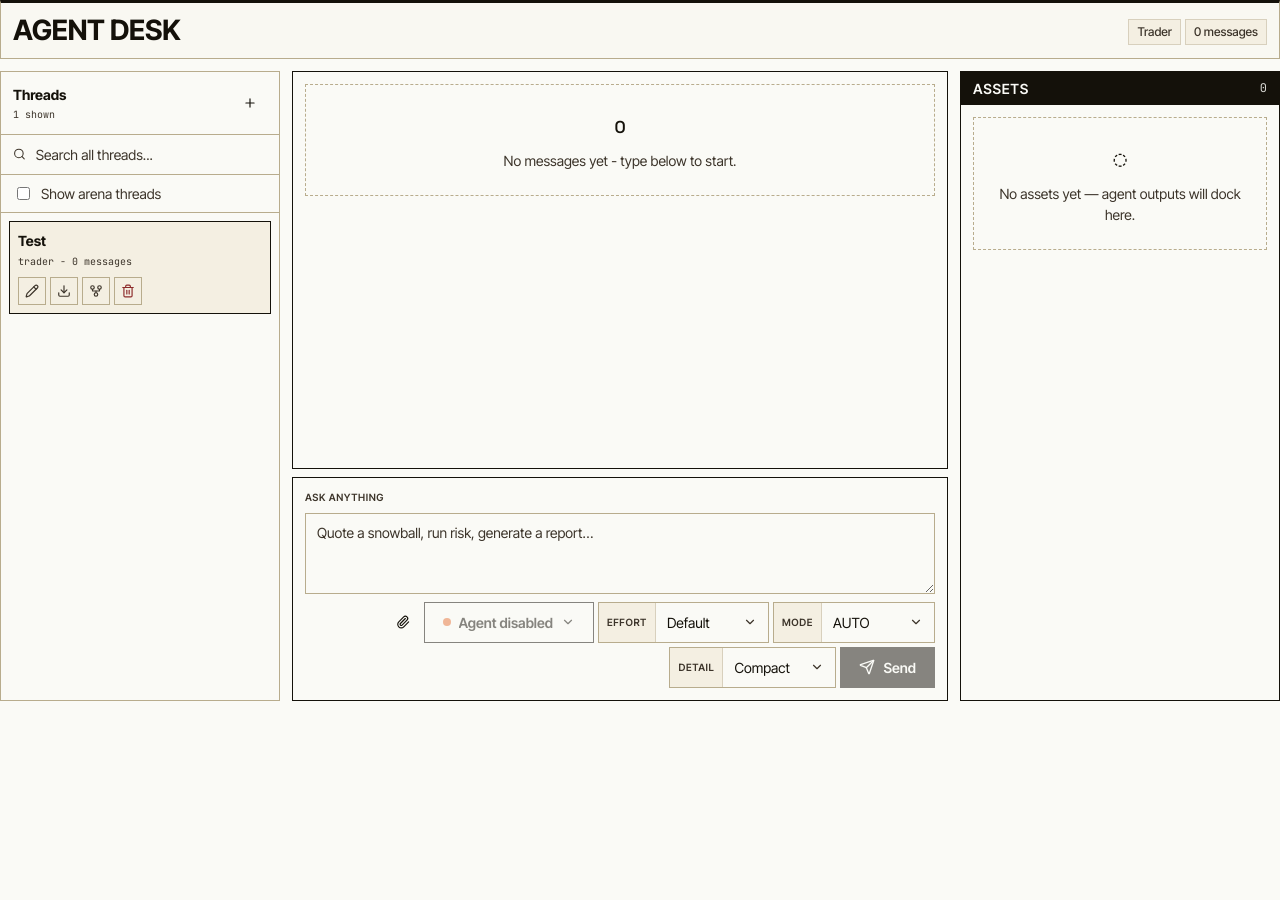
it: AgentDeskLive SSE parsing › aborts the active stream when Stop is clicked
Type "hi" into the text box labelled "Ask anything" at point(620, 553), box x1=305 y1=513 x2=935 y2=594
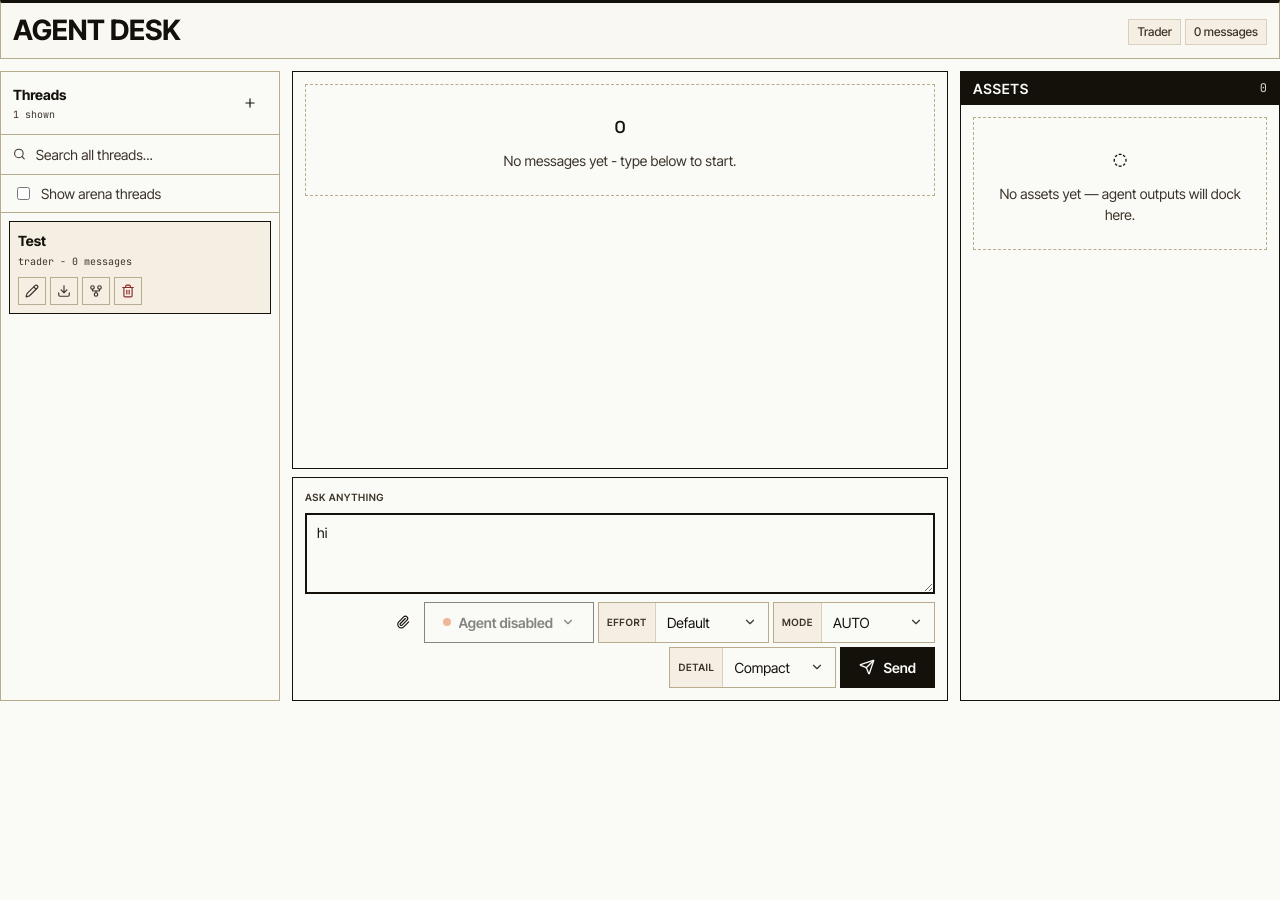
Click the button "Send" at point(888, 667), box x1=840 y1=647 x2=935 y2=688
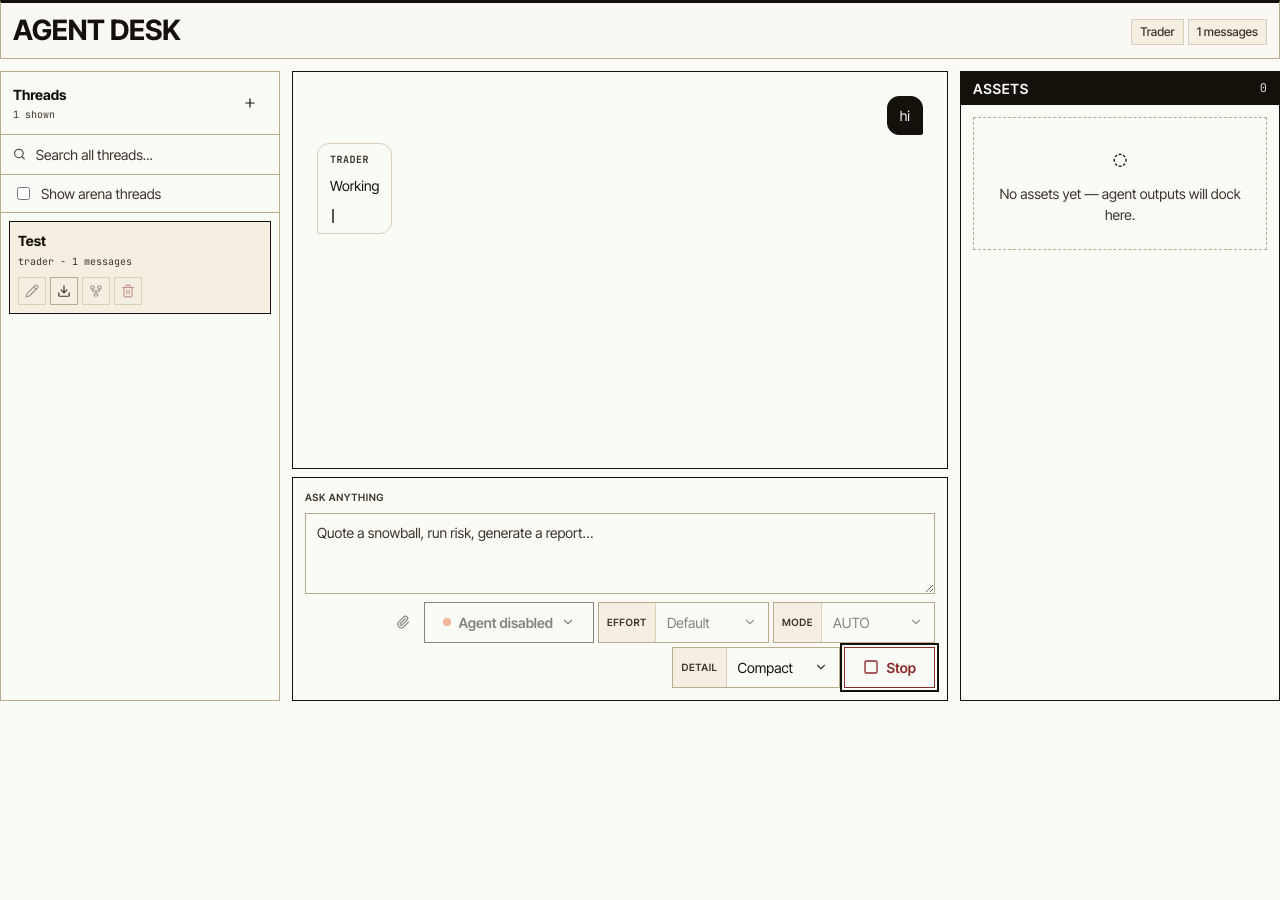
Expected: the button "Stop" is shown
Click the button "Stop" at point(889, 667), box x1=844 y1=647 x2=935 y2=688
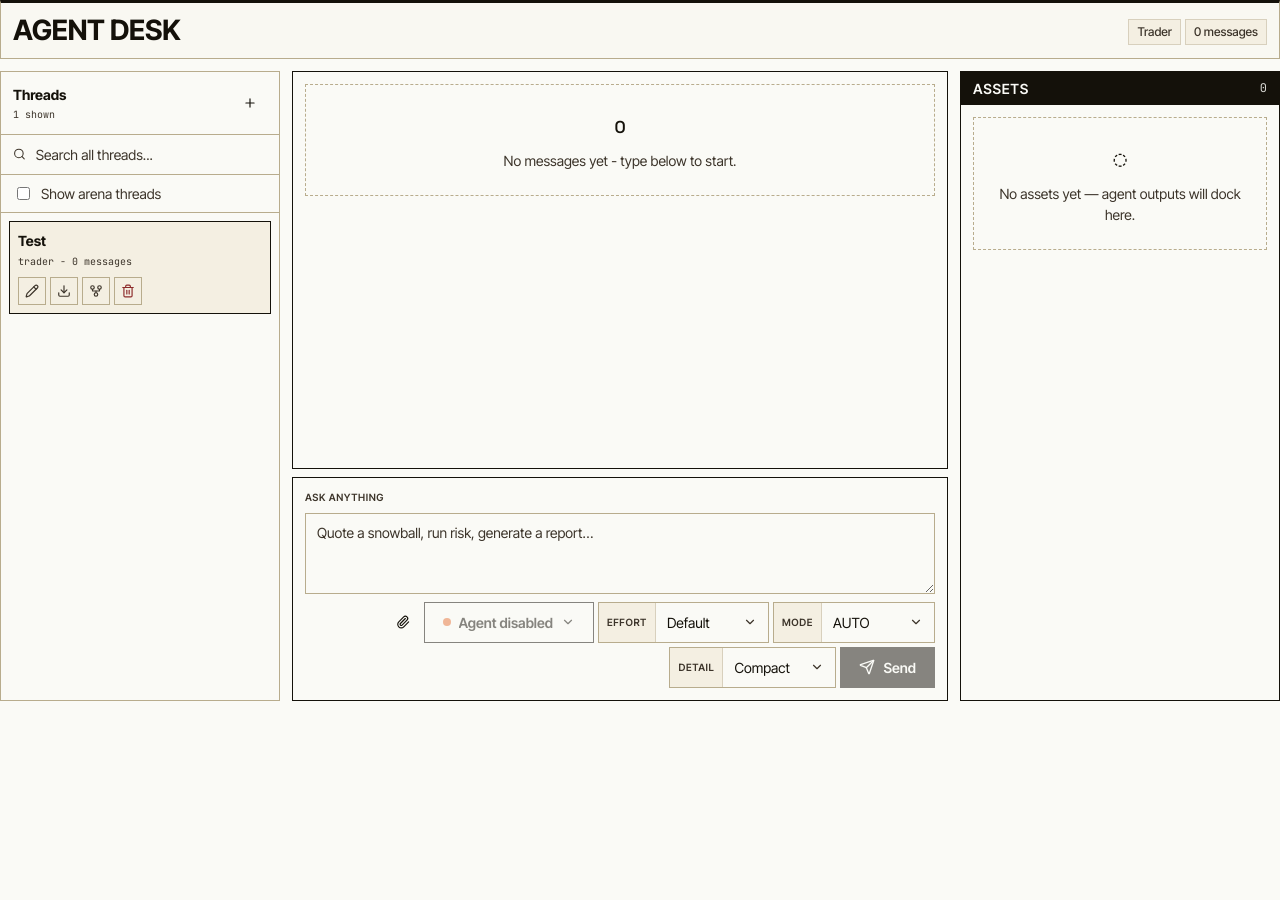
Expected: the button "Stop" is gone
